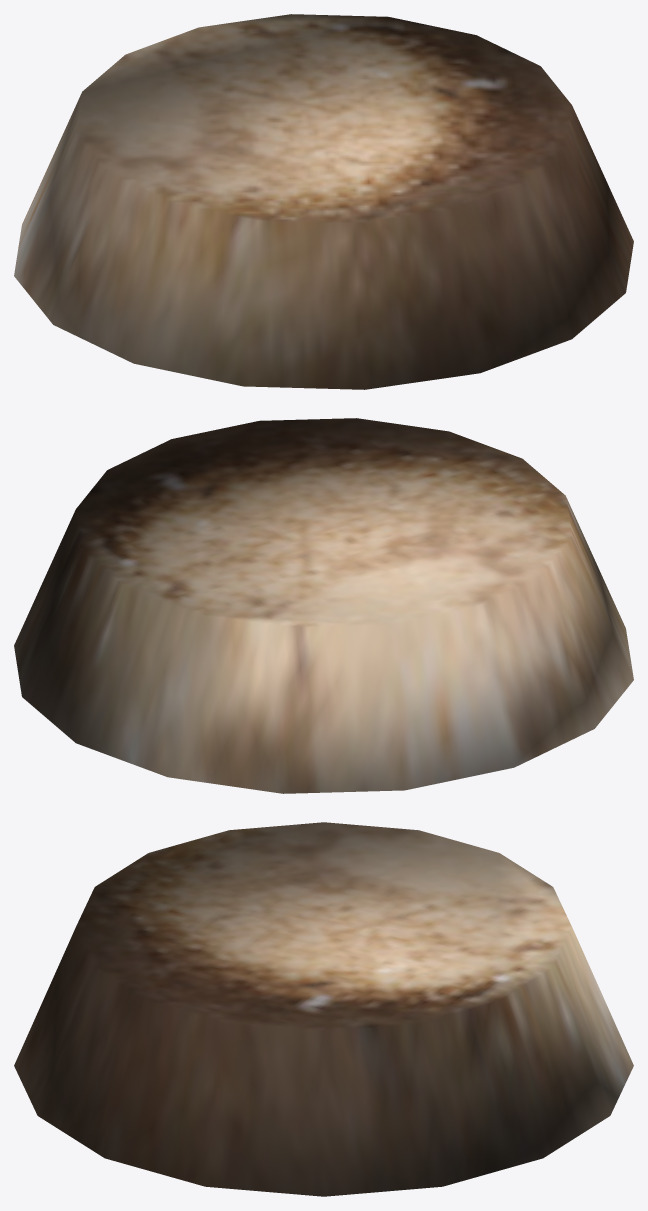
File: weights.glb
The picture shows the model from 3 angles, top to bottom: view 1: azimuth 30°, elevation 25°; view 2: azimuth 150°, elevation 25°; view 3: azimuth 270°, elevation 25°; orthographic projection.
Visible parts, largest first — view 1: weight; view 2: weight; view 3: weight.
Part boxes in pixels (bbox=[...]): weight: bbox=[14, 14, 633, 389]; weight: bbox=[14, 418, 633, 793]; weight: bbox=[14, 822, 633, 1196].
Bounding box in the file's own units: 4.78 × 1.18 × 4.78.
Materials: 1 (1 with a texture image).
